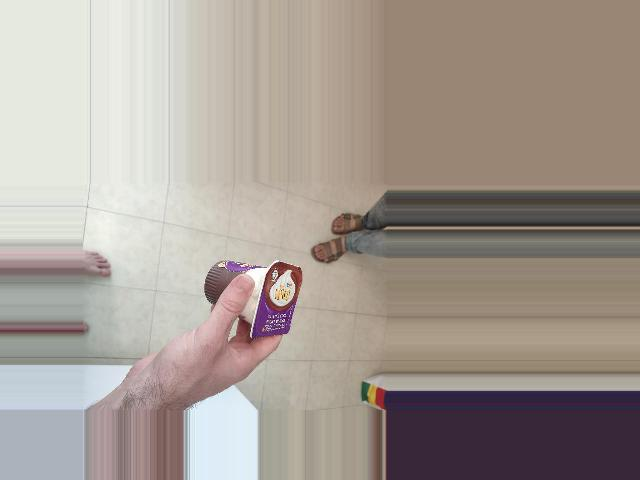milky: (202, 260, 309, 347)
